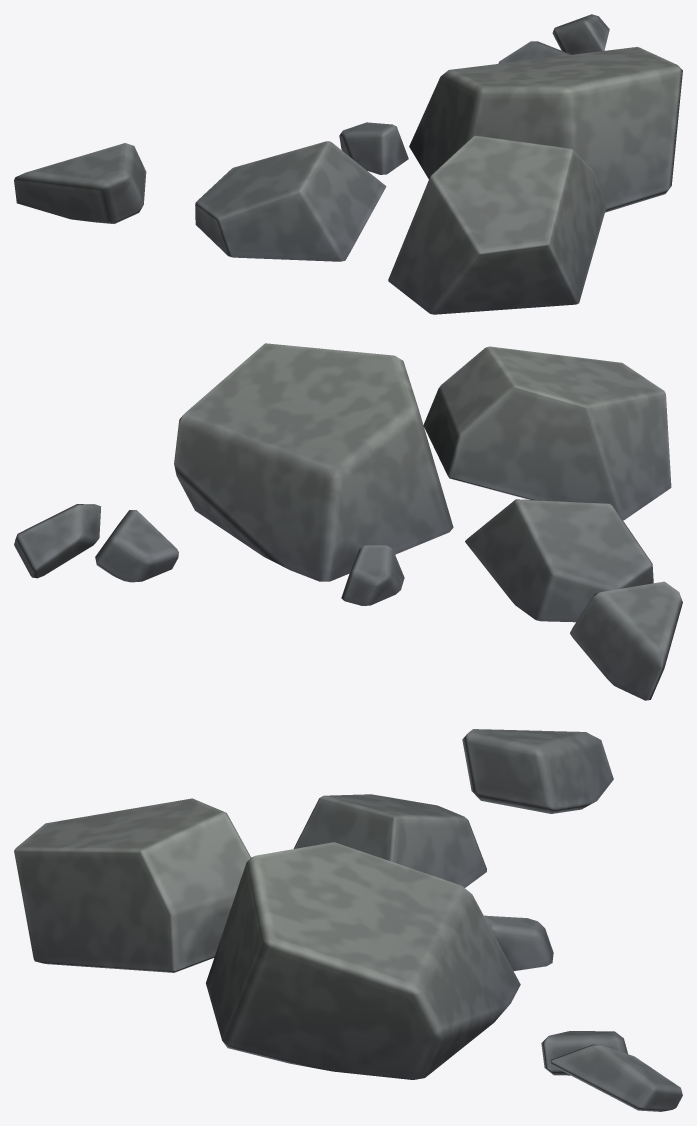
Rendered from rubble_2.glb.
3 renders of one model, top to bottom at view 1: azimuth 30°, elevation 25°; view 2: azimuth 150°, elevation 25°; view 3: azimuth 270°, elevation 25°, orthographic. The views are drawn at different scales.
Parts seen in each view (by area): view 1: rubble_2; view 2: rubble_2; view 3: rubble_2.
Part boxes in pixels (left/top/right/bottom): rubble_2: left=14, top=14, right=682, bottom=314; rubble_2: left=14, top=343, right=682, bottom=700; rubble_2: left=14, top=729, right=682, bottom=1111.
Bounding box in the file's own units: 1 × 0.2 × 0.8.
1 material, 1 textured.
